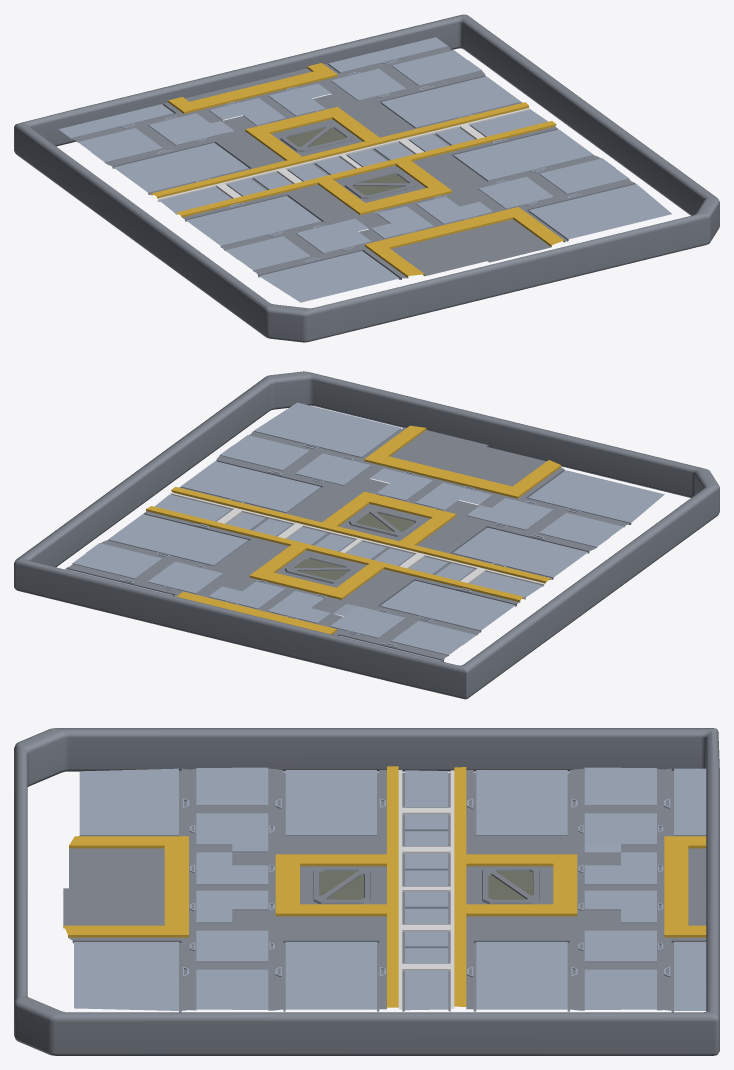
The model's file is Level17_Ground_.fbx.
The picture shows the model from 3 angles, top to bottom: view 1: azimuth 30°, elevation 25°; view 2: azimuth 150°, elevation 25°; view 3: azimuth 270°, elevation 25°; orthographic projection. The views are drawn at different scales.
Parts seen in each view (by area): view 1: pCube95 (×4), Border, pCube100 (×4), pCube87 (×2), pPlane1 (×2); view 2: Border, pCube95 (×4), pCube100 (×4), pCube87 (×2), pPlane1 (×2); view 3: pCube95 (×4), Border, pCube100 (×4), pCube87 (×2), pPlane1 (×2).
Boxes of the visible parts, bbox=[...] form: pCube95 (×4): bbox=[59, 60, 671, 262]; Border: bbox=[14, 14, 719, 342]; pCube100 (×4): bbox=[182, 37, 615, 302]; pCube87 (×2): bbox=[280, 123, 416, 199]; pPlane1 (×2): bbox=[287, 128, 408, 195]; Border: bbox=[14, 371, 719, 699]; pCube95 (×4): bbox=[86, 402, 550, 661]; pCube100 (×4): bbox=[64, 445, 664, 615]; pCube87 (×2): bbox=[285, 508, 421, 583]; pPlane1 (×2): bbox=[293, 513, 414, 580]; pCube95 (×4): bbox=[63, 766, 706, 1012]; Border: bbox=[14, 728, 719, 1055]; pCube100 (×4): bbox=[69, 767, 706, 1012]; pCube87 (×2): bbox=[313, 866, 539, 904]; pPlane1 (×2): bbox=[319, 871, 533, 899].
Size of the model in its own units: 561 by 36.61 by 575.
